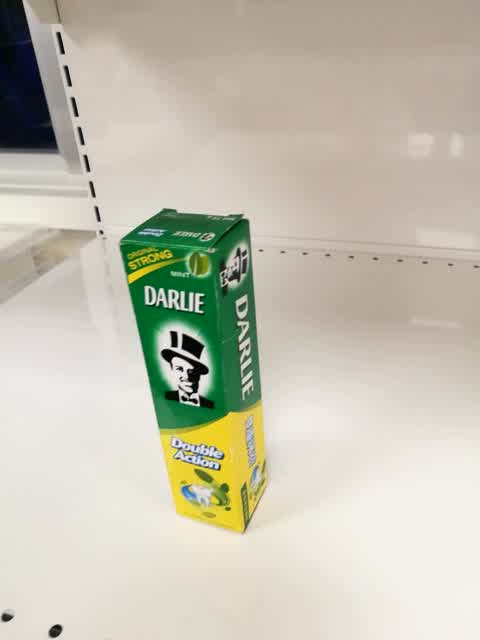toothpaste: (119, 208, 271, 534)
